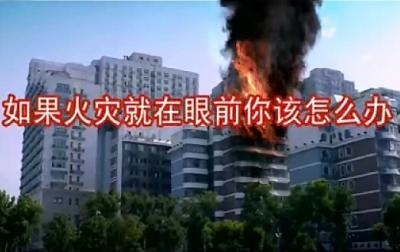fire: (218, 43, 291, 130)
